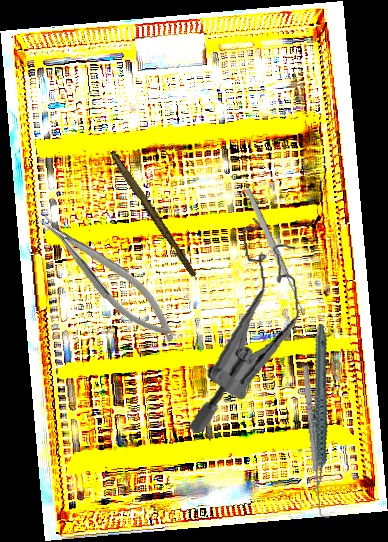Handpiece: (277, 323, 359, 493)
Hook Surgical: (300, 364, 331, 520)
Needle Holder: (32, 200, 186, 354)
Scalpel Handle: (105, 150, 200, 278)
Speculum: (168, 214, 315, 434)
Surgical Spoon: (243, 186, 308, 318)
